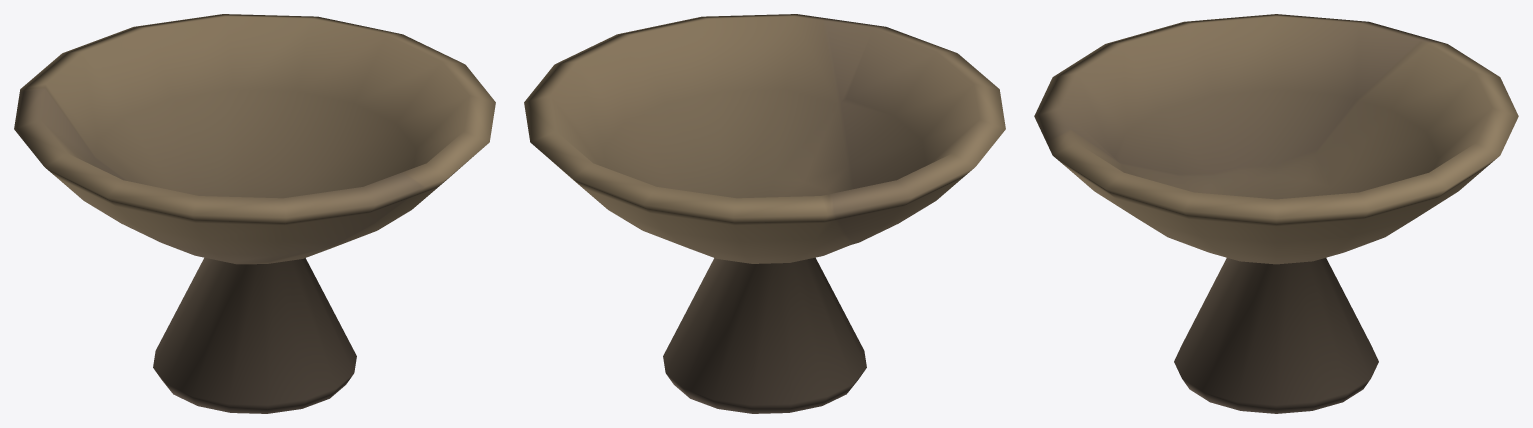
3 renders of one model, left to right at view 1: azimuth 30°, elevation 25°; view 2: azimuth 150°, elevation 25°; view 3: azimuth 270°, elevation 25°, orthographic.
Parts seen in each view (by area): view 1: alt1.003; view 2: alt1.003; view 3: alt1.003.
Part boxes in pixels (<box>): alt1.003: <box>14,14,495,413</box>; alt1.003: <box>524,14,1005,413</box>; alt1.003: <box>1034,14,1518,413</box>.
Size of the model in its own units: 0.5 by 0.3029 by 0.5.
